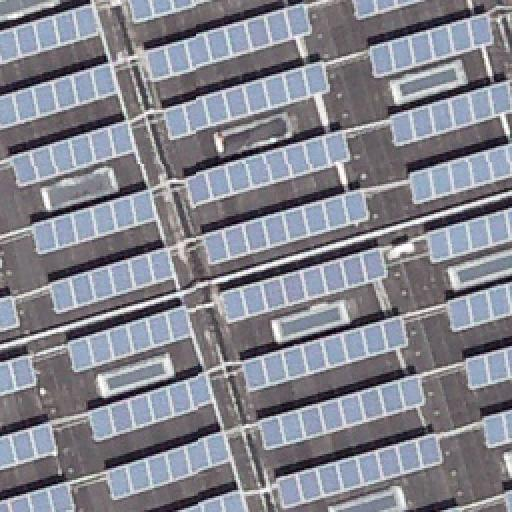solar-panel: (257, 371, 431, 453), (182, 131, 354, 213), (163, 59, 333, 141), (201, 188, 375, 268), (240, 312, 412, 392), (143, 2, 313, 82), (219, 245, 389, 323), (275, 432, 445, 508), (100, 429, 236, 499), (64, 302, 196, 374), (87, 370, 217, 442), (46, 245, 178, 315), (8, 121, 136, 191), (28, 191, 160, 257), (385, 82, 511, 150), (0, 61, 120, 131), (368, 14, 496, 78), (1, 3, 103, 69), (408, 141, 512, 203), (425, 209, 511, 263), (444, 282, 512, 330), (0, 417, 60, 471), (0, 480, 80, 512), (127, 0, 217, 26), (464, 345, 512, 391), (170, 486, 250, 512), (0, 349, 40, 395), (355, 1, 429, 23), (480, 407, 512, 449), (1, 292, 23, 332), (500, 486, 512, 512), (436, 504, 464, 512), (1, 250, 7, 270)
